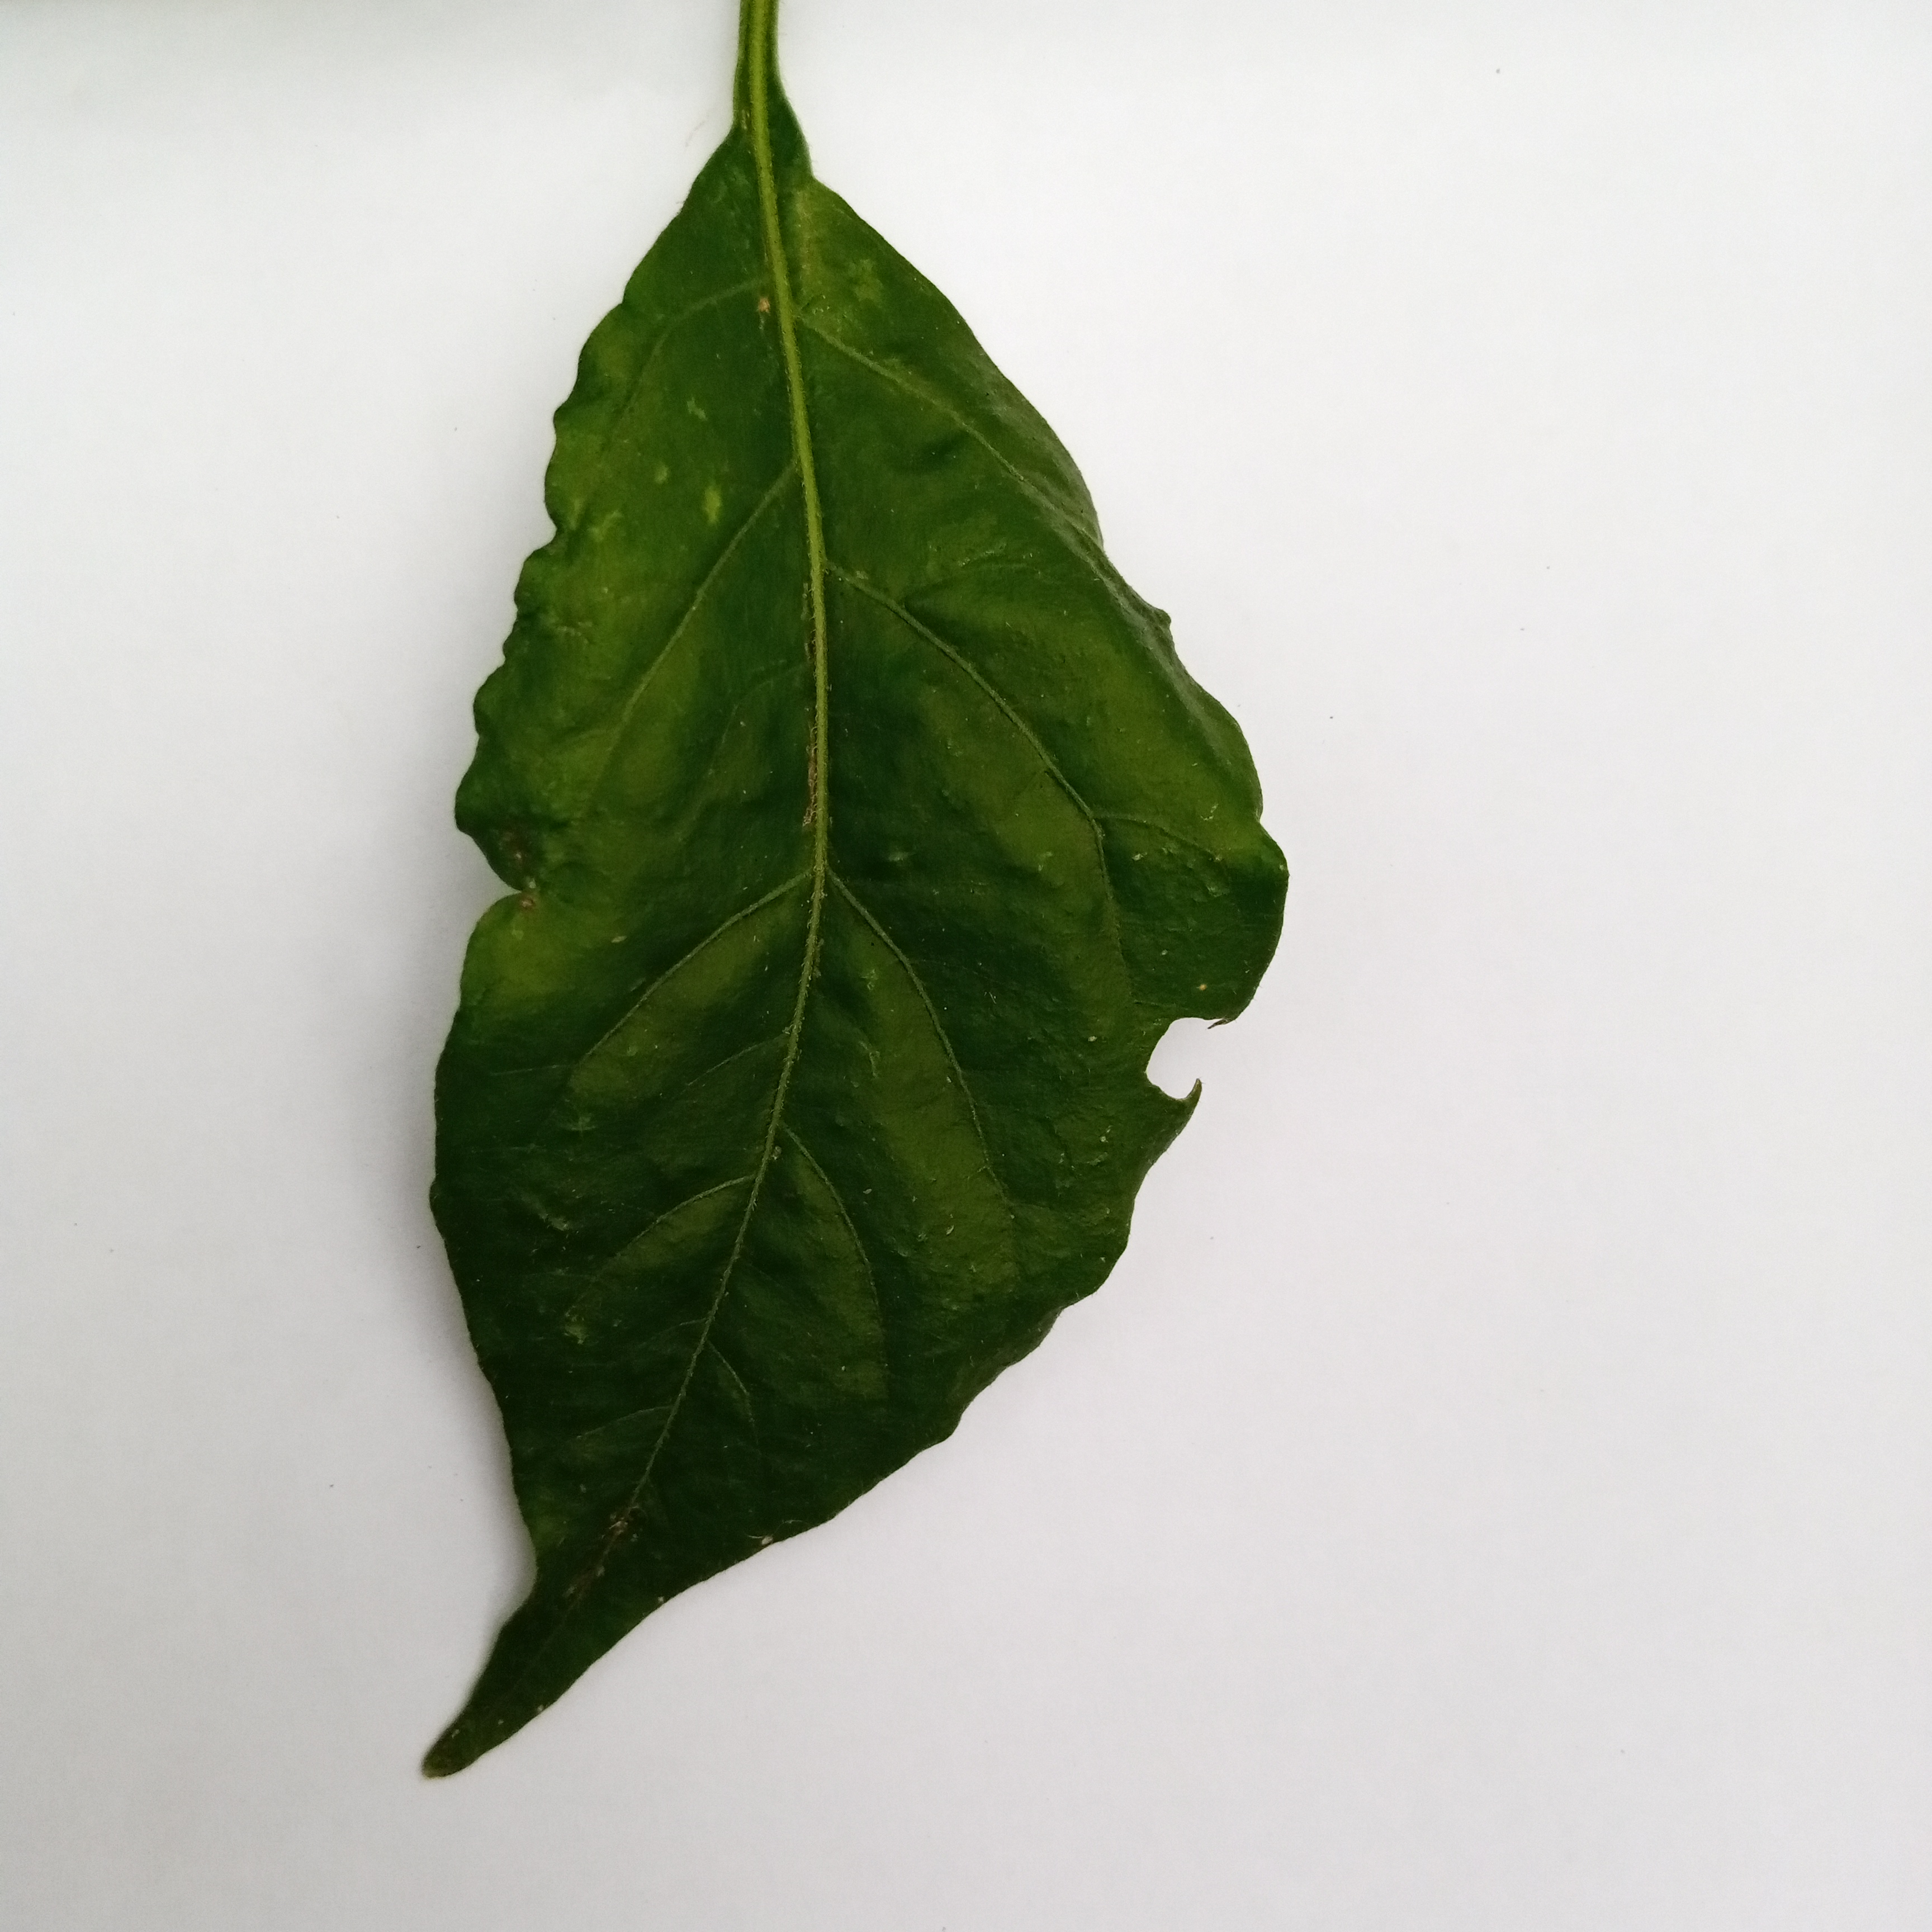Leaf: (251, 106, 1361, 1819)
